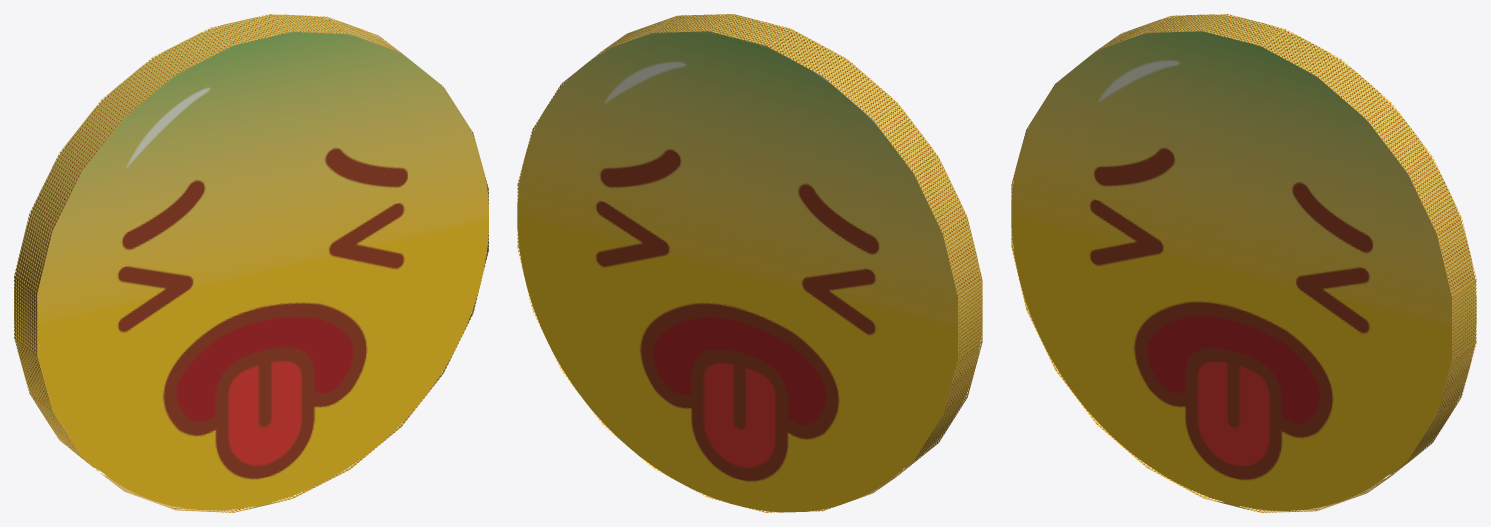
3 views of the same model, side by side, from view 1: azimuth 30°, elevation 25°; view 2: azimuth 150°, elevation 25°; view 3: azimuth 330°, elevation 25° (orthographic).
Visible parts, largest first — view 1: Model; view 2: Model; view 3: Model.
Boxes of the visible parts, left/top/right/bottom form: Model: left=14, top=14, right=488, bottom=512; Model: left=517, top=14, right=982, bottom=512; Model: left=1011, top=14, right=1476, bottom=512.
Bounding box in the file's own units: 132 × 132 × 14.87.
1 material, 1 textured.
